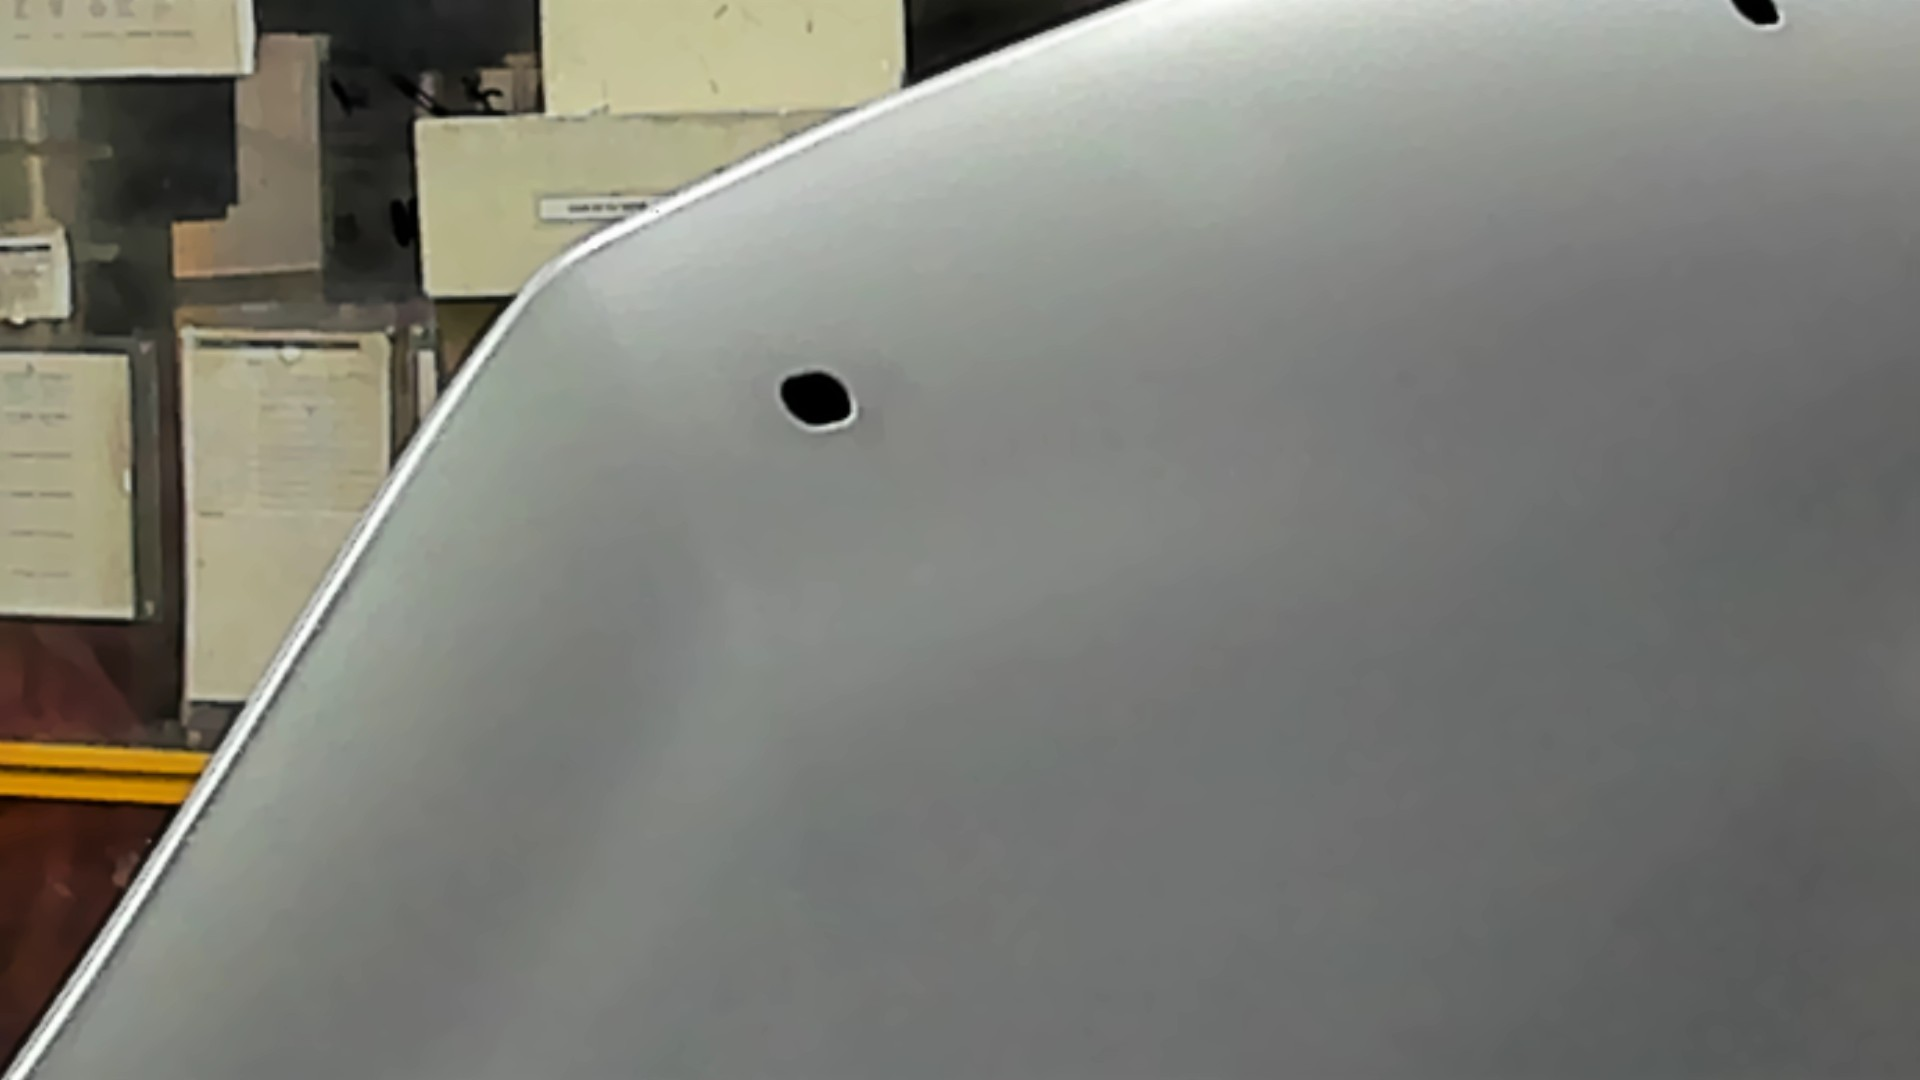amorfo: (765, 365, 861, 433), (1720, 1, 1784, 36)
capo: (953, 107, 1920, 1080)
